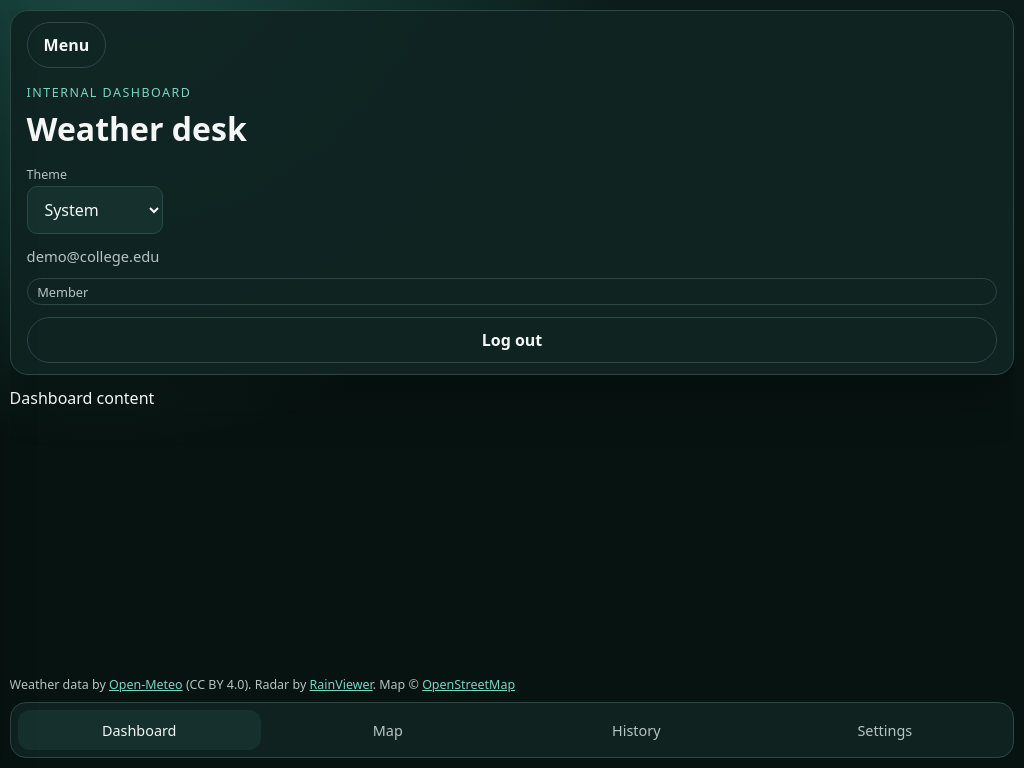
AppShell mobile drawer › closes the drawer when a nav link is tapped
The image size is (1024, 768).
Click the button with aria-label "toggle navigation".
click(66, 45)  # box [27, 22, 106, 68]
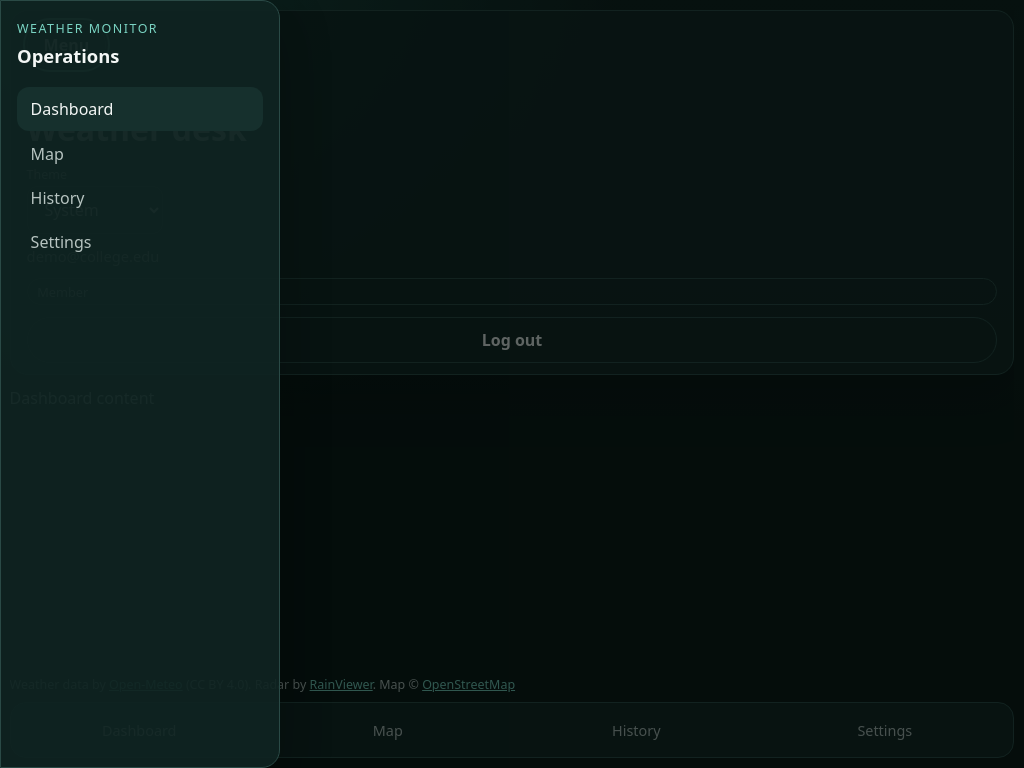
Click the link "History".
click(58, 198)  # box [31, 187, 84, 209]
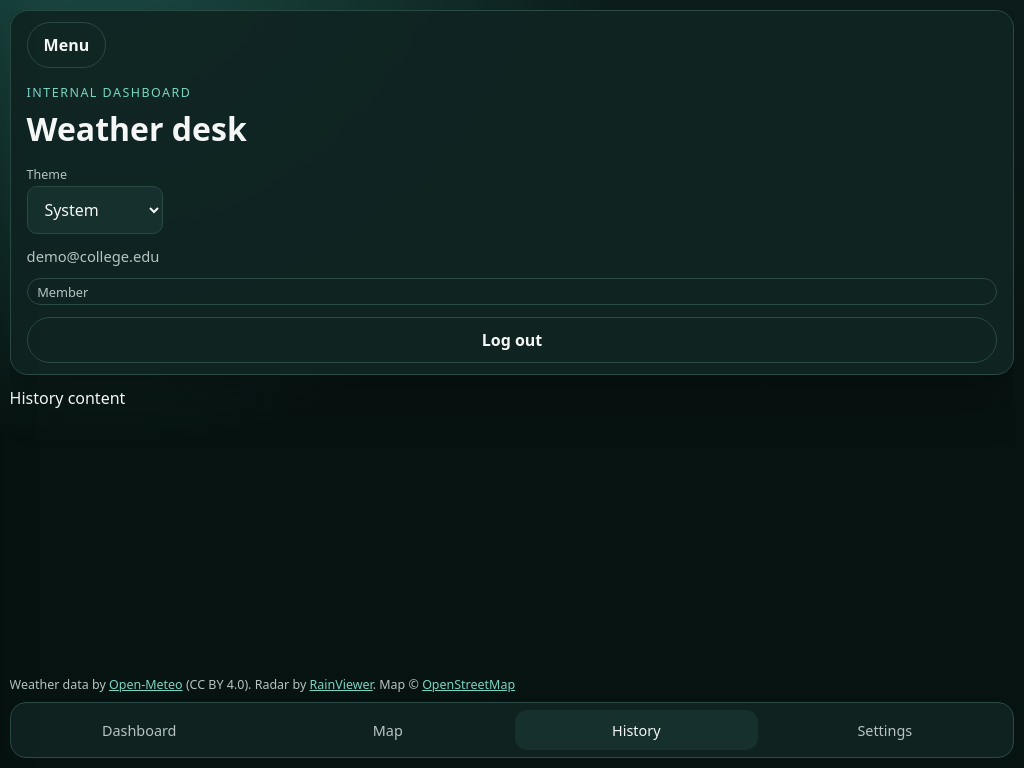
expect the text "History content" is shown: met, box [10, 387, 125, 409]
